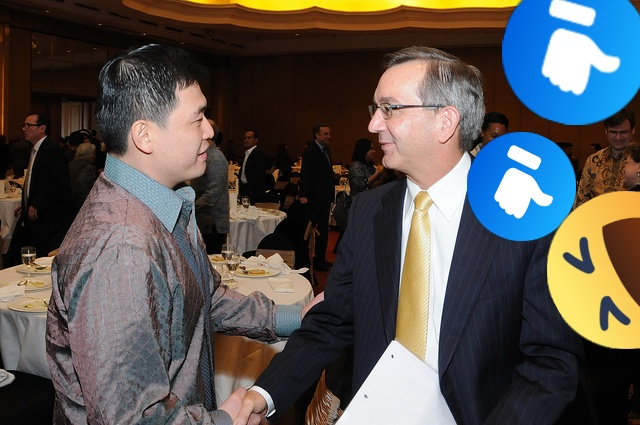haha: (547, 191, 640, 349)
like: (502, 0, 640, 125), (467, 132, 576, 241)
